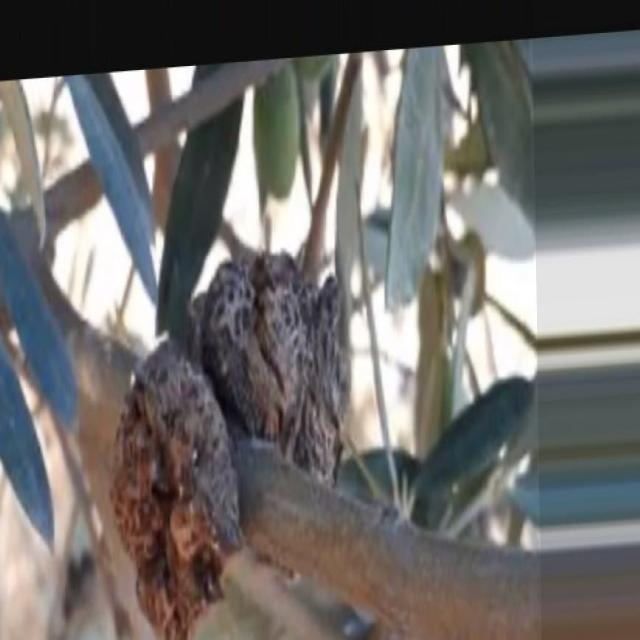Tuberculosis: (109, 339, 240, 639), (190, 250, 350, 482)
